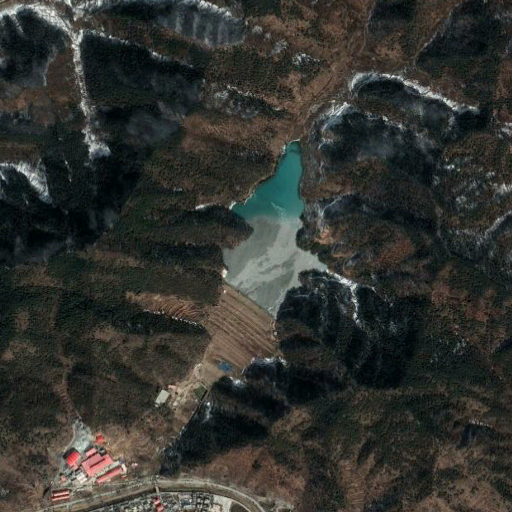tp: (205, 143, 330, 375)
